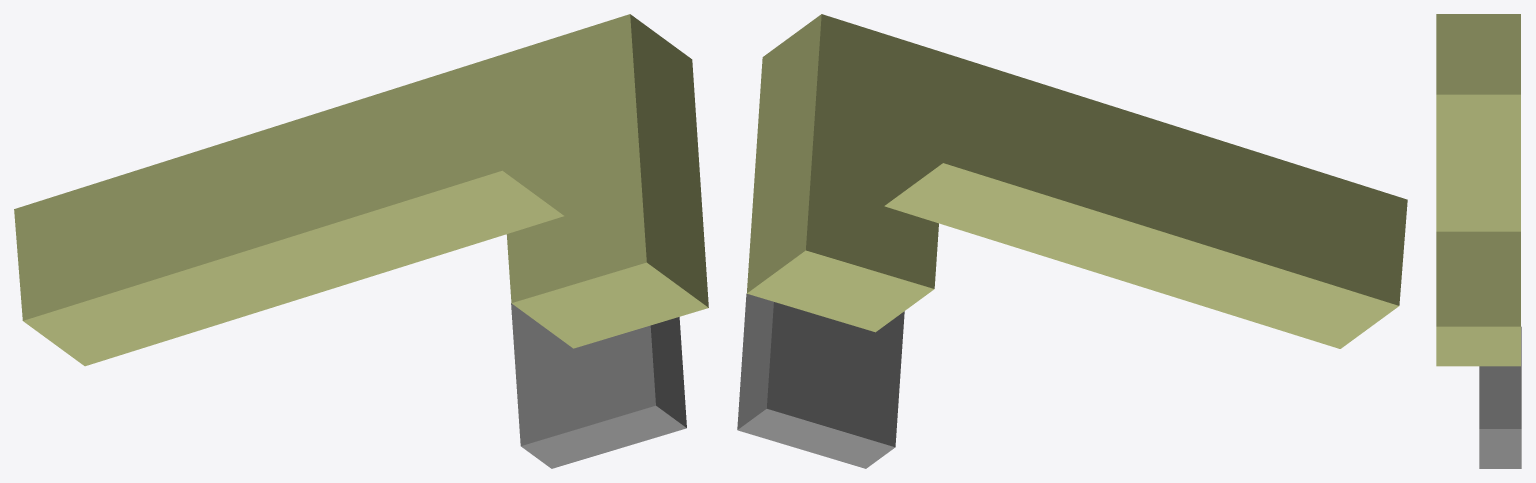
3 views of the same model, side by side, from view 1: azimuth 30°, elevation 25°; view 2: azimuth 150°, elevation 25°; view 3: azimuth 270°, elevation 25° (orthographic). The views are drawn at different scales.
Visible parts, largest first — view 1: 0_1_2_0_0_2_3_2_2; view 2: 0_1_2_0_0_2_3_2_2; view 3: 0_1_2_0_0_2_3_2_2.
Boxes of the visible parts, <box> form: 0_1_2_0_0_2_3_2_2: <box>14,14,708,468</box>; 0_1_2_0_0_2_3_2_2: <box>737,14,1407,468</box>; 0_1_2_0_0_2_3_2_2: <box>1436,14,1521,468</box>.
Size of the model in its own units: 35.85 by 21.65 by 6.04.
